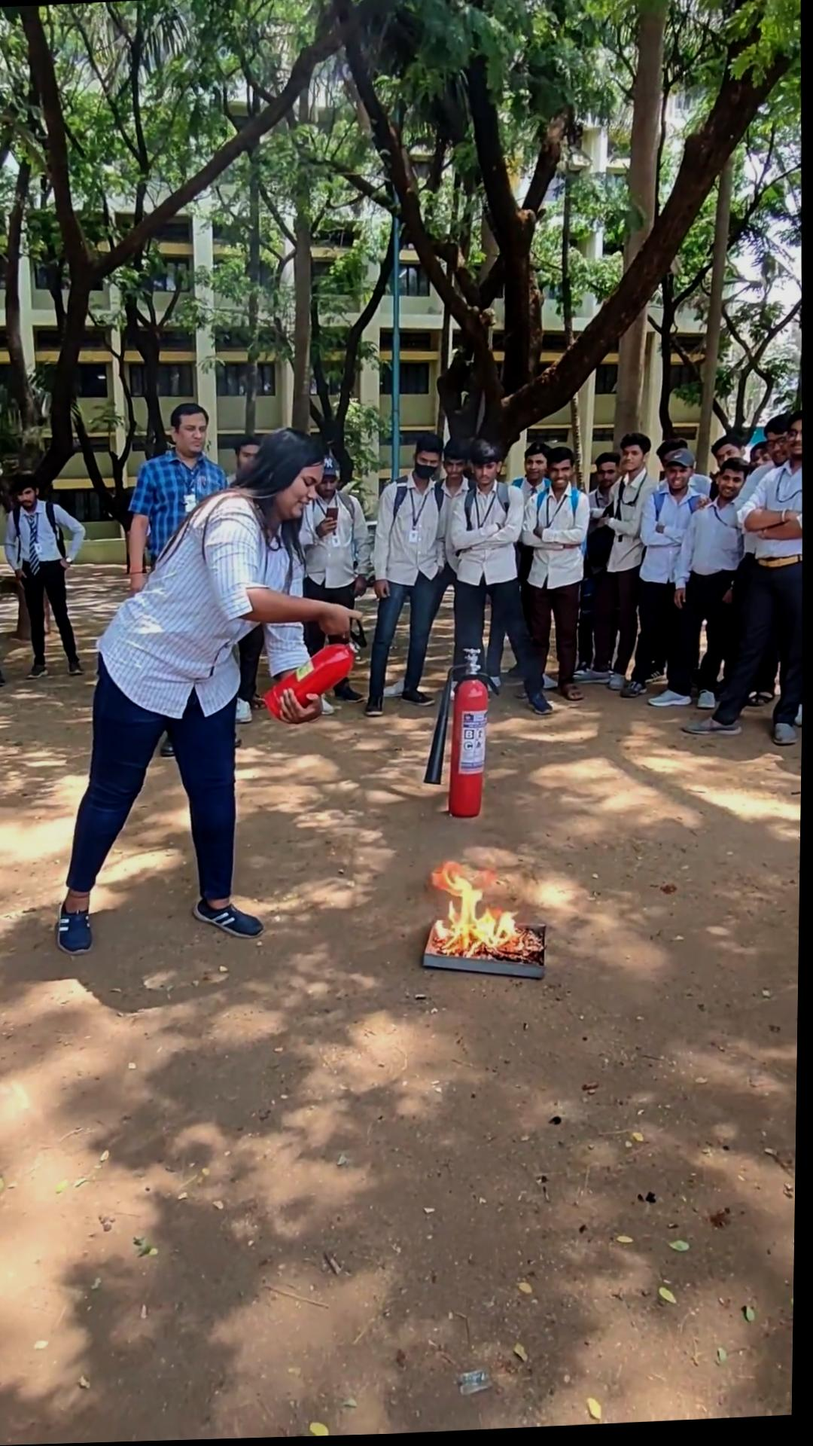FireExtinguisher: (414, 642, 511, 830), (251, 613, 382, 737)
